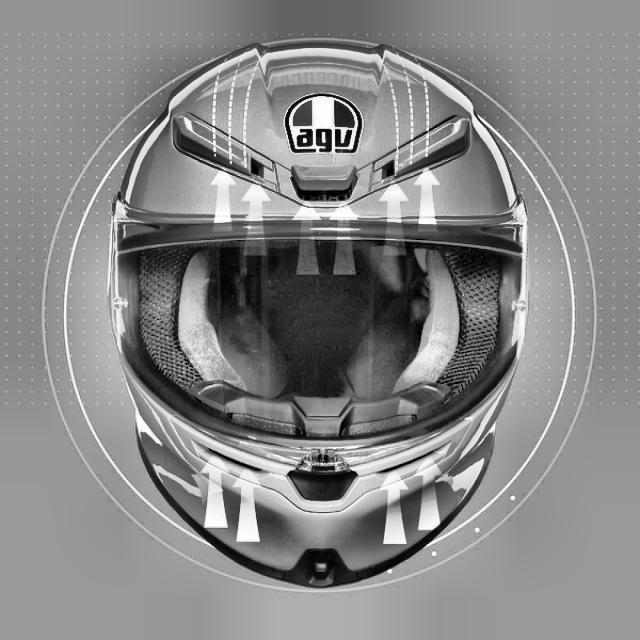Helmet: (104, 41, 544, 594)
